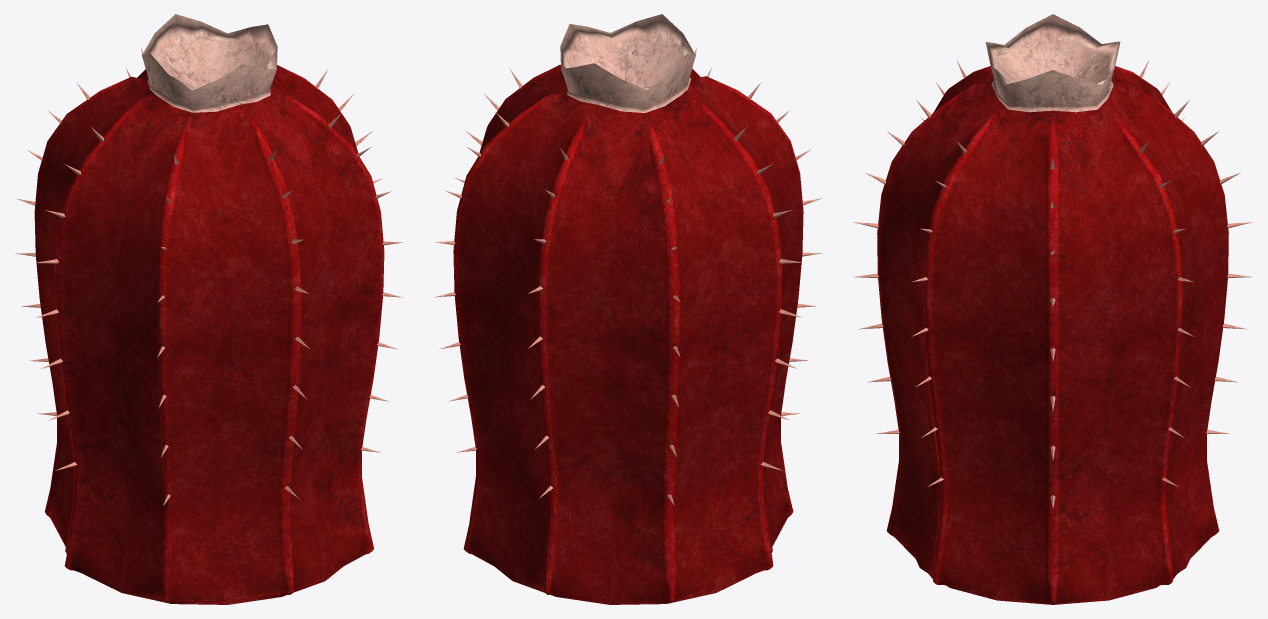
File: Cactus_Ferocactus_Dark_Pink.fbx
3 renders of one model, left to right at view 1: azimuth 30°, elevation 25°; view 2: azimuth 150°, elevation 25°; view 3: azimuth 270°, elevation 25°, orthographic.
Visible parts, largest first — view 1: Cactus_Main; view 2: Cactus_Main; view 3: Cactus_Main.
Boxes of the visible parts, x1=… form: Cactus_Main: x1=34, y1=14, x2=384, y2=604; Cactus_Main: x1=453, y1=14, x2=803, y2=604; Cactus_Main: x1=877, y1=14, x2=1228, y2=604.
Bounding box in the file's own units: 1.46 × 2.02 × 1.46.
